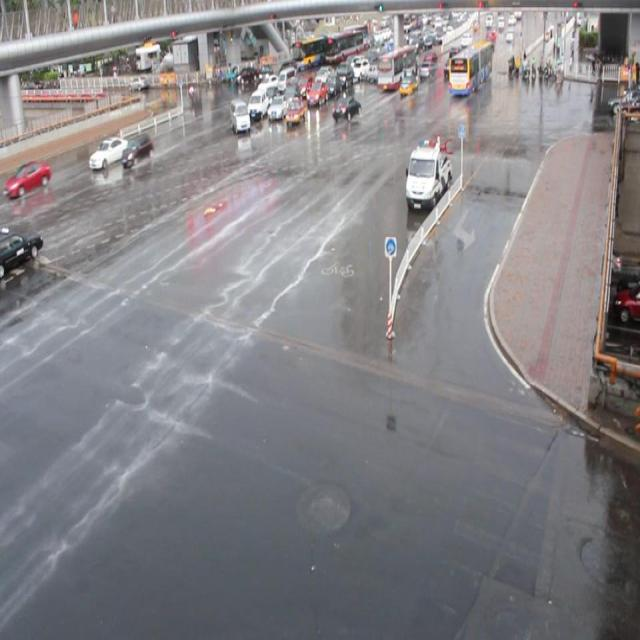bus: (403, 143, 451, 211)
car: (1, 227, 44, 277), (1, 159, 51, 199), (90, 135, 130, 170), (121, 133, 154, 167), (330, 94, 360, 121), (304, 80, 325, 106), (285, 97, 306, 122), (267, 96, 288, 120), (258, 87, 280, 109), (280, 83, 300, 107), (257, 73, 278, 94), (291, 76, 311, 97), (398, 73, 417, 94)
truck: (243, 89, 266, 121), (230, 98, 250, 133), (276, 67, 296, 91)
van: (447, 41, 492, 94)
